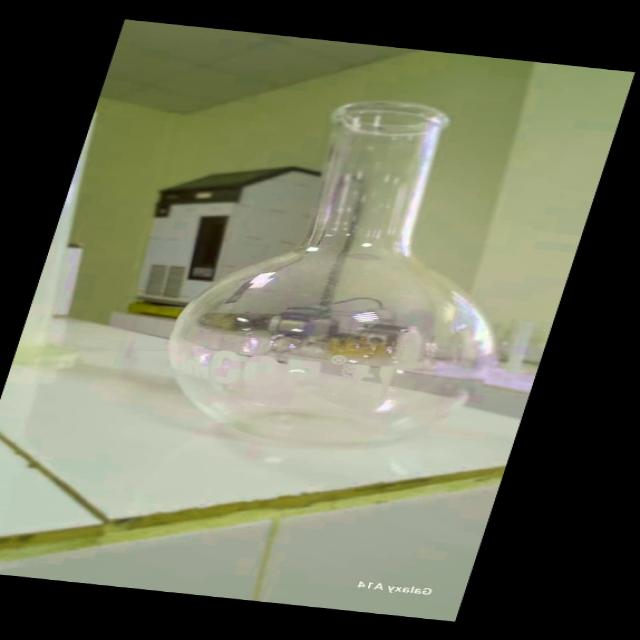Round Bottom Flask: (100, 80, 573, 465)
